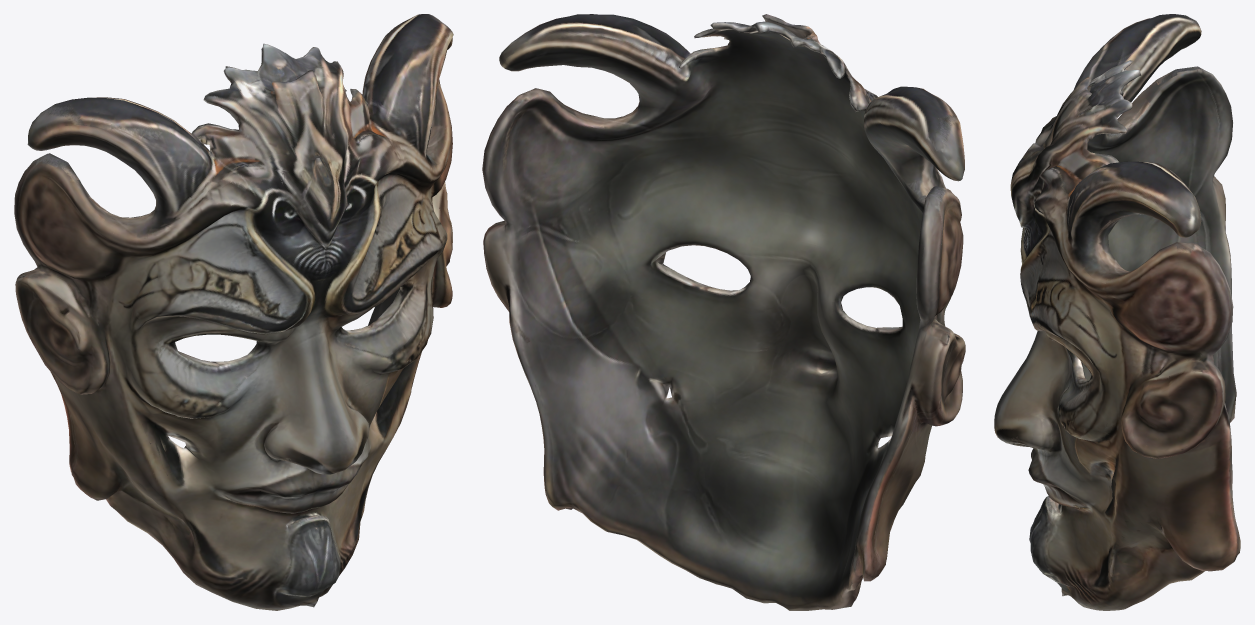
File: mask1.fbx
3 renders of one model, left to right at view 1: azimuth 30°, elevation 25°; view 2: azimuth 150°, elevation 25°; view 3: azimuth 270°, elevation 25°, orthographic. The views are drawn at different scales.
Parts seen in each view (by area): view 1: file1; view 2: file1; view 3: file1.
Boxes of the visible parts, box(x1,y1,x2,y2) form: file1: box(14, 14, 453, 610); file1: box(482, 14, 965, 610); file1: box(994, 14, 1240, 610).
Size of the model in its own units: 161 by 199 by 83.75.
1 material, 1 textured.
